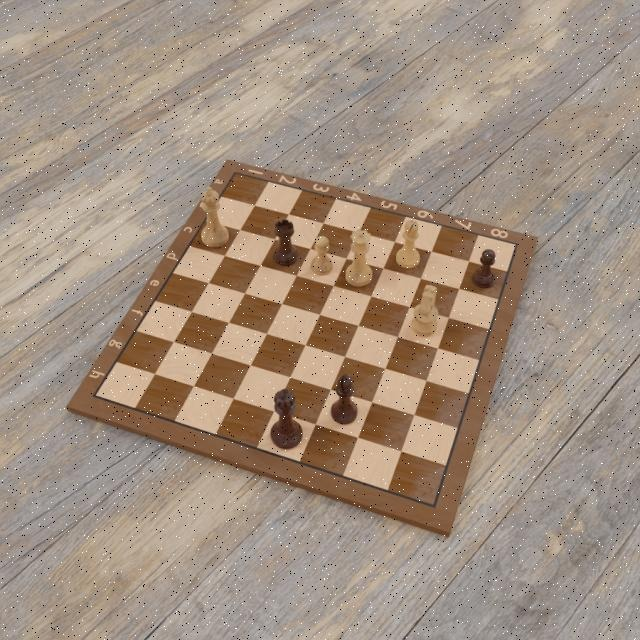black-bishop: (330, 373, 357, 425)
black-king: (269, 389, 303, 451)
black-pawn: (471, 248, 497, 289)
black-rook: (273, 218, 299, 266)
white-bishop: (395, 216, 421, 271)
white-king: (200, 187, 230, 249)
white-knight: (411, 283, 441, 337)
white-pawn: (310, 235, 334, 277)
white-queen: (345, 228, 375, 288)
